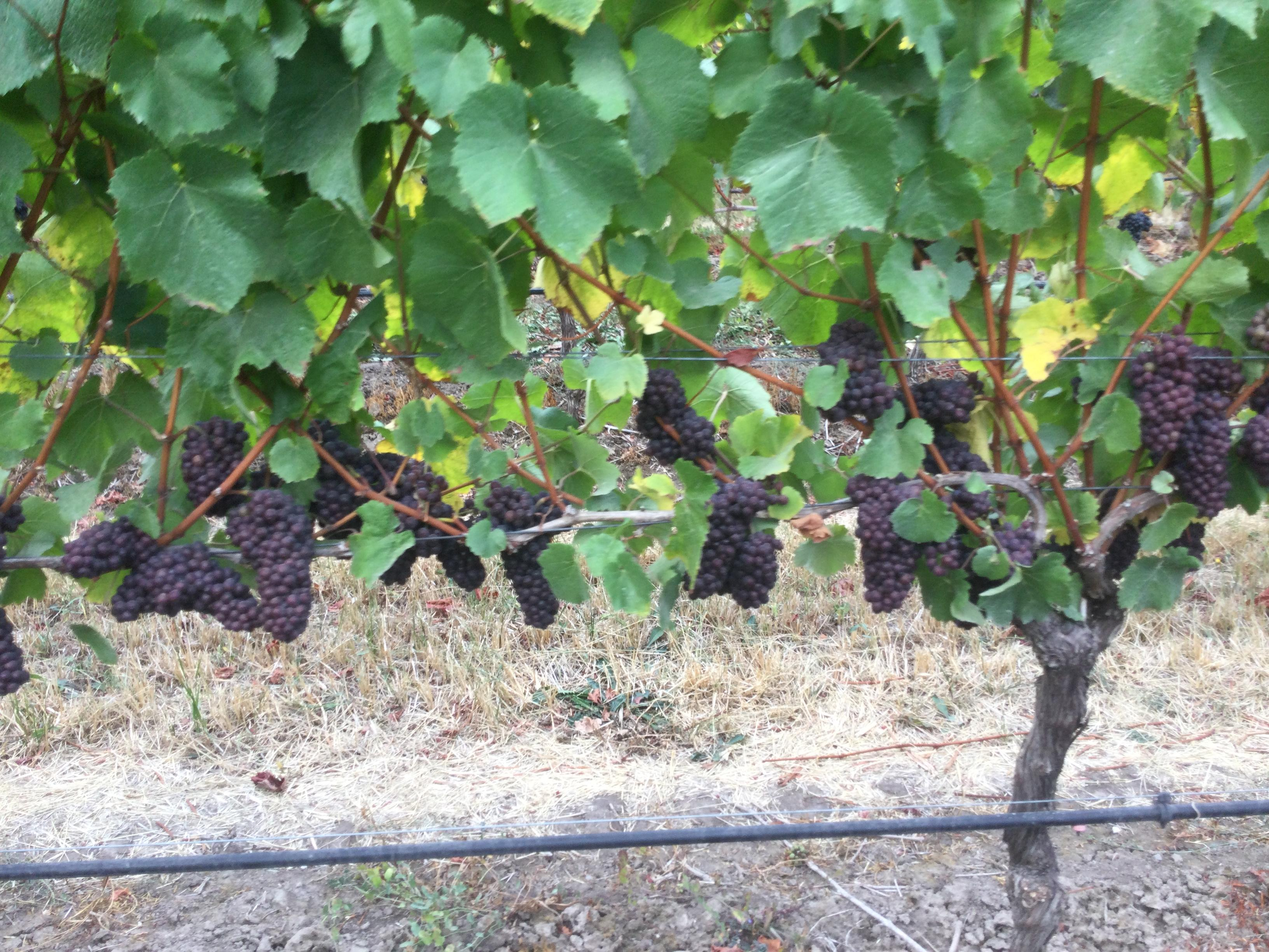leaf: (453, 84, 637, 260), (111, 145, 280, 311), (731, 80, 894, 250), (263, 28, 400, 211), (568, 22, 709, 175), (408, 220, 526, 364), (1054, 0, 1210, 105), (110, 12, 235, 141), (168, 290, 315, 392), (0, 0, 118, 93), (936, 50, 1030, 162), (1194, 19, 1268, 153), (283, 197, 392, 283), (876, 238, 972, 327), (893, 147, 983, 239), (410, 16, 489, 117), (712, 32, 802, 117), (978, 552, 1080, 625), (1012, 297, 1096, 382), (576, 533, 653, 615), (664, 460, 715, 580), (856, 400, 933, 478), (728, 410, 811, 479), (346, 500, 415, 582), (881, 0, 953, 75), (1117, 547, 1201, 611), (1095, 135, 1163, 214), (566, 342, 647, 402), (692, 367, 774, 423), (917, 564, 985, 624), (982, 169, 1045, 233), (890, 488, 958, 542), (672, 257, 741, 309), (1177, 255, 1248, 303), (1084, 392, 1140, 452), (794, 524, 855, 577), (538, 542, 590, 603), (392, 399, 445, 456), (1140, 502, 1197, 552), (0, 121, 33, 196), (528, 0, 601, 32), (269, 436, 319, 482), (803, 360, 849, 408), (1143, 253, 1194, 294), (465, 519, 507, 557), (971, 545, 1011, 580), (767, 485, 804, 519), (0, 217, 25, 254), (1152, 143, 1165, 154), (1252, 30, 1254, 32), (798, 341, 801, 342), (575, 66, 575, 68), (504, 467, 504, 469), (6, 200, 7, 200)
